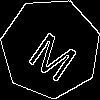M: (26, 23, 85, 85)
